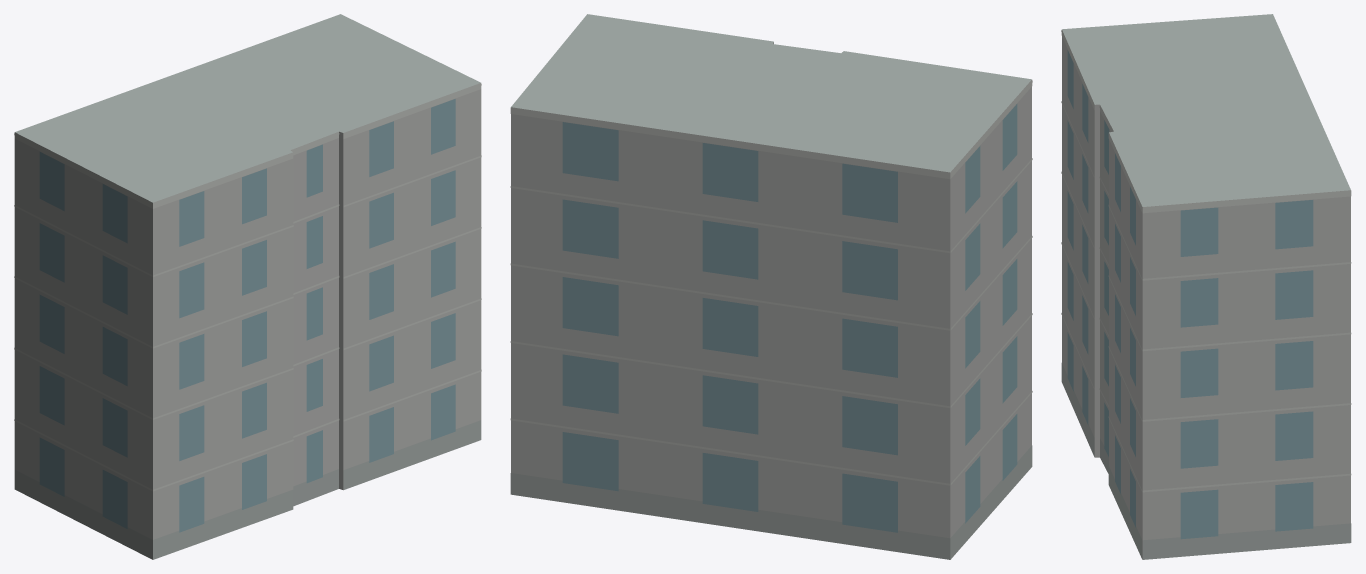
File: survey-upis-32801523.glb
3 views of the same model, side by side, from view 1: azimuth 30°, elevation 25°; view 2: azimuth 150°, elevation 25°; view 3: azimuth 270°, elevation 25° (orthographic). The views are drawn at different scales.
Visible parts, largest first — view 1: survey-upis-32801523.tmp; view 2: survey-upis-32801523.tmp; view 3: survey-upis-32801523.tmp.
Part boxes in pixels (x1,y1,x2,y2): survey-upis-32801523.tmp: [14, 14, 481, 559]; survey-upis-32801523.tmp: [510, 14, 1032, 559]; survey-upis-32801523.tmp: [1061, 14, 1351, 559].
Size of the model in its own units: 16.36 by 13.91 by 10.37.
